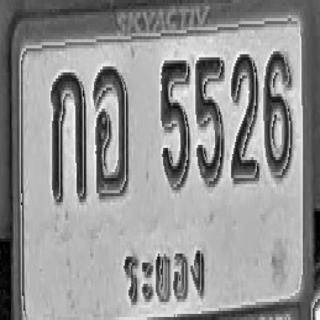A01: (49, 64, 91, 220)
A43: (90, 58, 132, 212)
N02: (228, 40, 258, 211)
N05: (153, 42, 190, 204), (191, 43, 226, 204)
N06: (260, 34, 300, 208)
P53: (115, 230, 219, 320)
